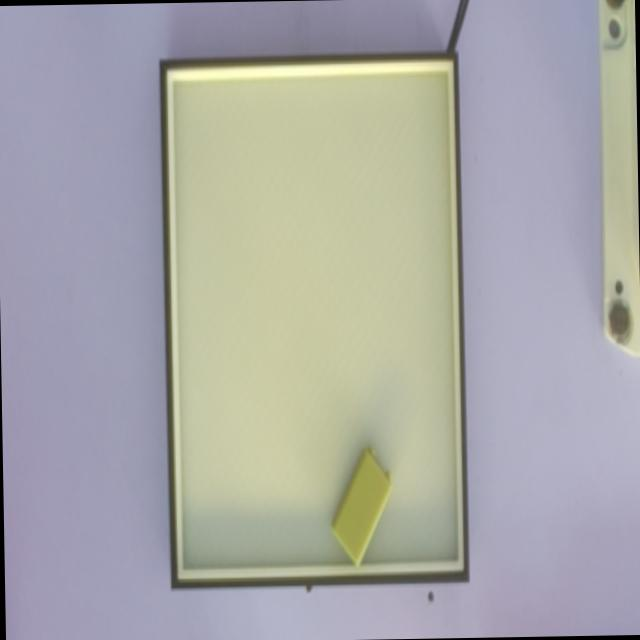bateria: (329, 444, 393, 566)
mesa: (159, 48, 469, 586)
